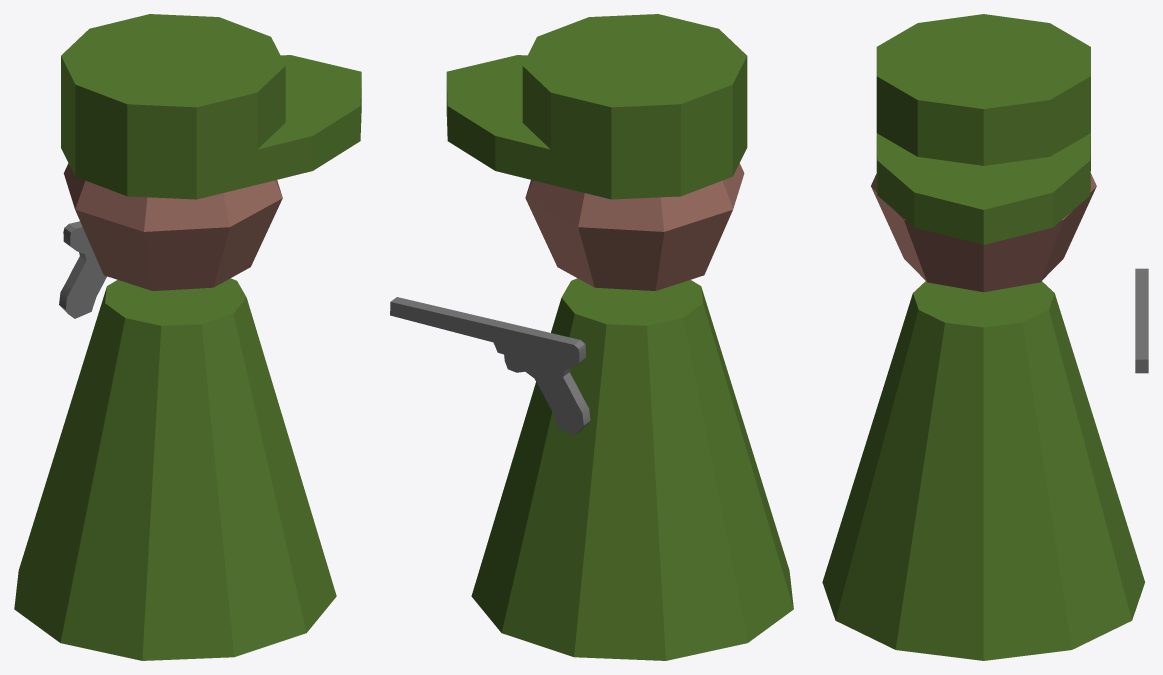
File: Pistol_Guy.fbx
3 views of the same model, side by side, from view 1: azimuth 30°, elevation 25°; view 2: azimuth 150°, elevation 25°; view 3: azimuth 270°, elevation 25° (orthographic).
Parts seen in each view (by area): view 1: Body, Hat, Head, Gun; view 2: Body, Hat, Head, Gun; view 3: Body, Hat, Head, Gun.
Part boxes in pixels (x1,y1,x2,y2): Body: (14,278,336,660); Hat: (61,14,361,199); Head: (63,163,282,290); Gun: (59,221,106,318); Body: (471,278,793,660); Hat: (446,14,747,199); Head: (525,163,744,290); Gun: (390,297,590,434); Body: (822,281,1144,660); Hat: (876,14,1090,244); Head: (871,173,1096,292); Gun: (1135,268,1148,373).
Size of the model in its own units: 0.8962 by 1.41 by 0.7832.
